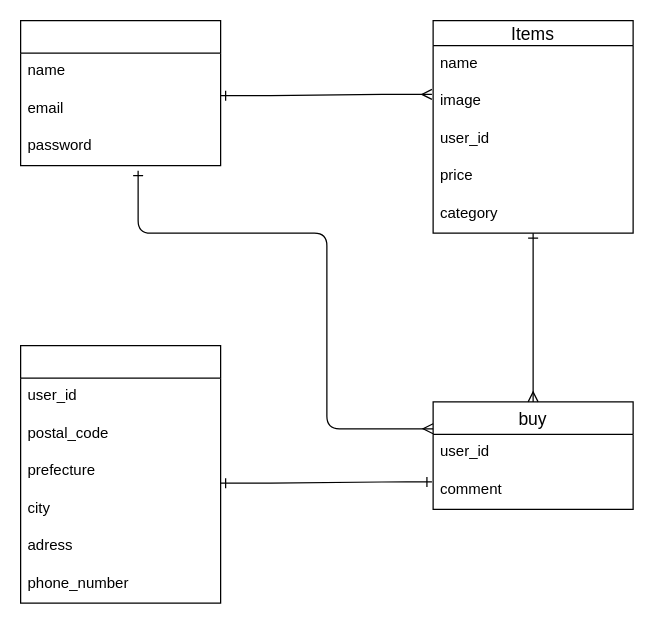
Some shapes in this 654 by 624 pixel diagram are drawn without their labels. The box of each missing label's shape, as (x1, y1, x2, y2) in pixels:
Profile: (19, 344, 221, 603)
Users: (19, 19, 221, 166)
